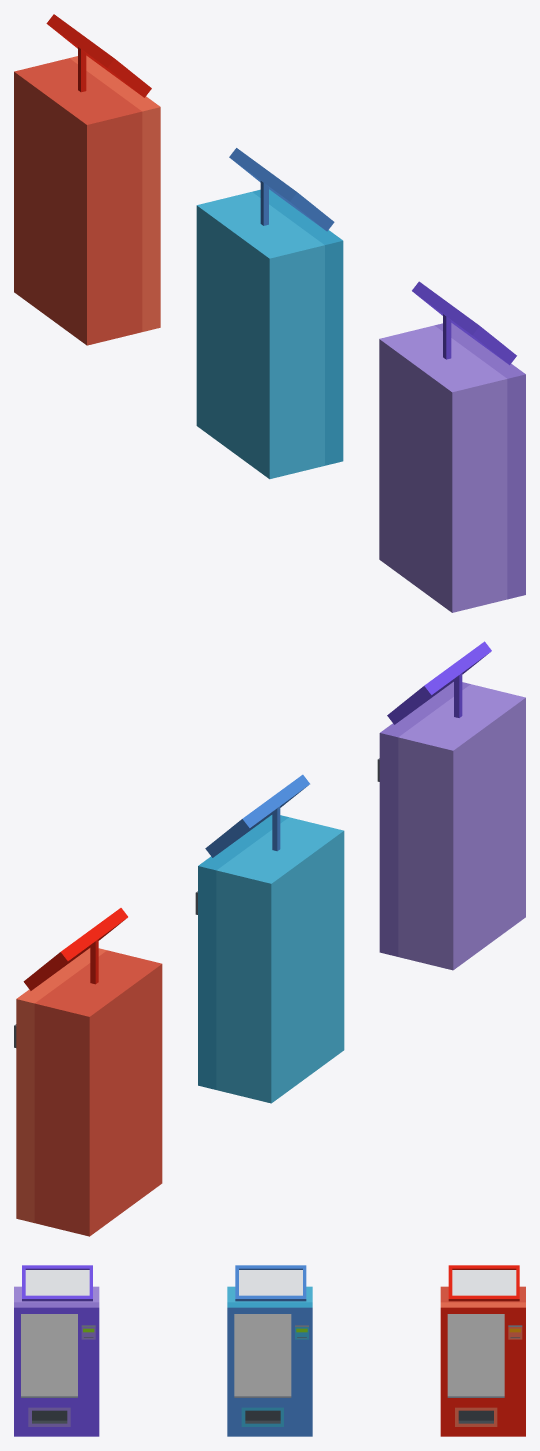
File: 3_VendingMachines.fbx
3 renders of one model, top to bottom at view 1: azimuth 30°, elevation 25°; view 2: azimuth 150°, elevation 25°; view 3: azimuth 270°, elevation 25°, orthographic. The views are drawn at different scales.
Visible parts, largest first — view 1: 0_Automat.002, 0_Automat.003, 0_Automat.001; view 2: 0_Automat.002, 0_Automat.001, 0_Automat.003; view 3: 0_Automat.002, 0_Automat.003, 0_Automat.001.
Part boxes in pixels (left/top/right/bottom): 0_Automat.002: left=196, top=148, right=343, bottom=479; 0_Automat.003: left=14, top=14, right=160, bottom=345; 0_Automat.001: left=379, top=281, right=525, bottom=612; 0_Automat.002: left=195, top=774, right=344, bottom=1103; 0_Automat.001: left=377, top=641, right=525, bottom=970; 0_Automat.003: left=14, top=908, right=162, bottom=1236; 0_Automat.002: left=227, top=1265, right=312, bottom=1436; 0_Automat.003: left=440, top=1265, right=525, bottom=1436; 0_Automat.001: left=14, top=1265, right=99, bottom=1436.
Size of the model in its own units: 720 by 75 by 248.
2 materials, 1 textured.
